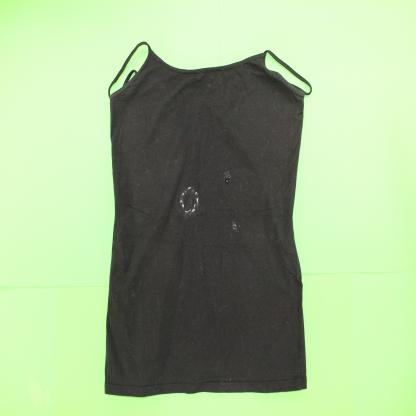stain: (178, 183, 202, 219), (221, 167, 233, 188), (231, 219, 240, 234)
